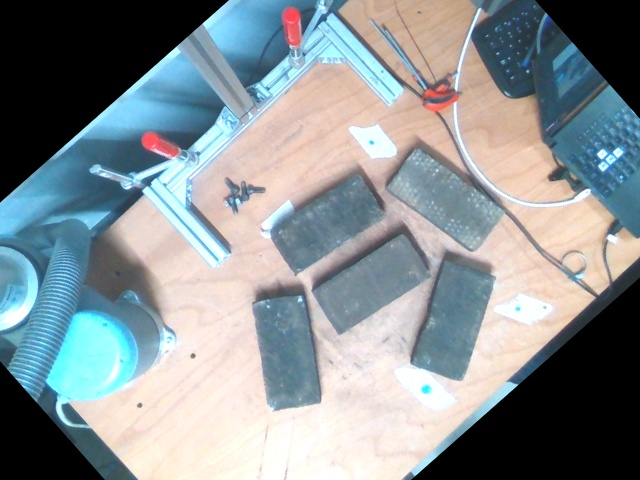brick: (268, 174, 386, 274), (391, 151, 501, 248), (317, 235, 427, 330), (418, 263, 494, 375), (257, 294, 318, 411)
